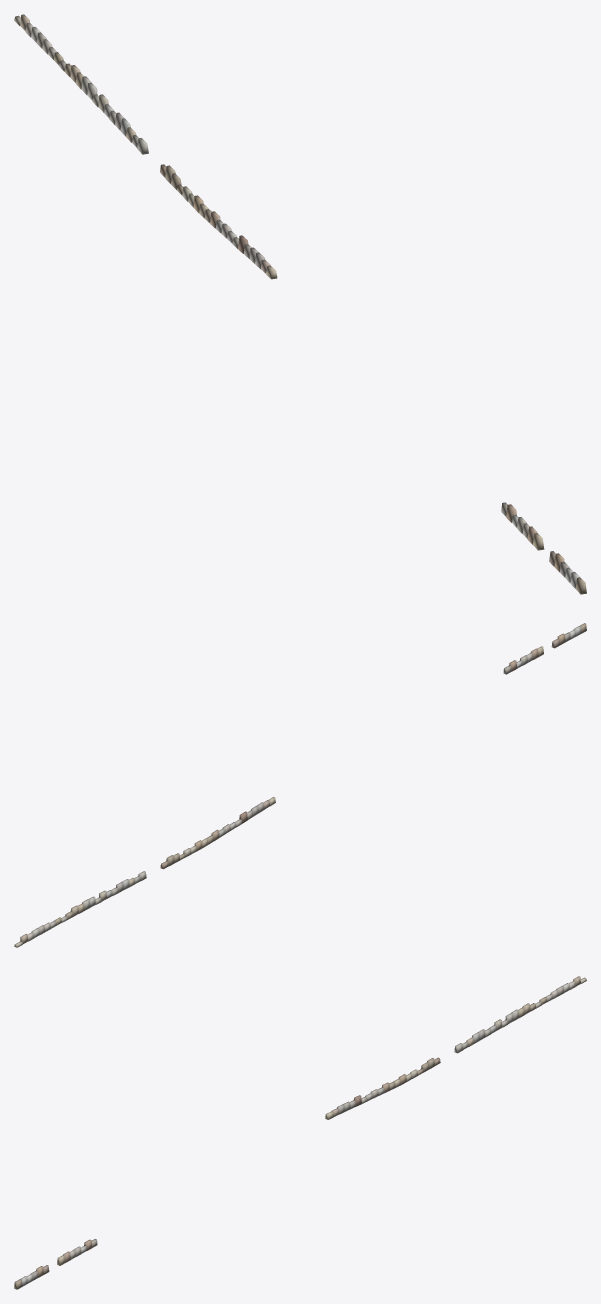
The model's file is farm_12_18_collision.glb.
The picture shows the model from 3 angles, top to bottom: view 1: azimuth 30°, elevation 25°; view 2: azimuth 150°, elevation 25°; view 3: azimuth 330°, elevation 25°; orthographic projection. The views are drawn at different scales.
Visible parts, largest first — view 1: geometry_0; view 2: geometry_0; view 3: geometry_0.
Boxes of the visible parts, left/top/right/bottom form: geometry_0: left=14, top=14, right=586, bottom=594; geometry_0: left=14, top=623, right=586, bottom=947; geometry_0: left=14, top=976, right=586, bottom=1289.
Size of the model in its own units: 21.92 by 2.84 by 160.
